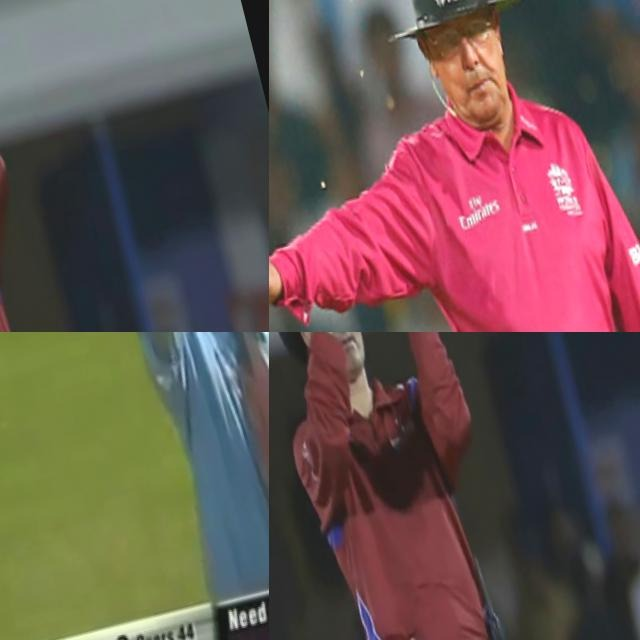No_Ball: (269, 0, 640, 332)
Out: (66, 332, 269, 635)
Six: (269, 332, 569, 640), (0, 0, 120, 332)
